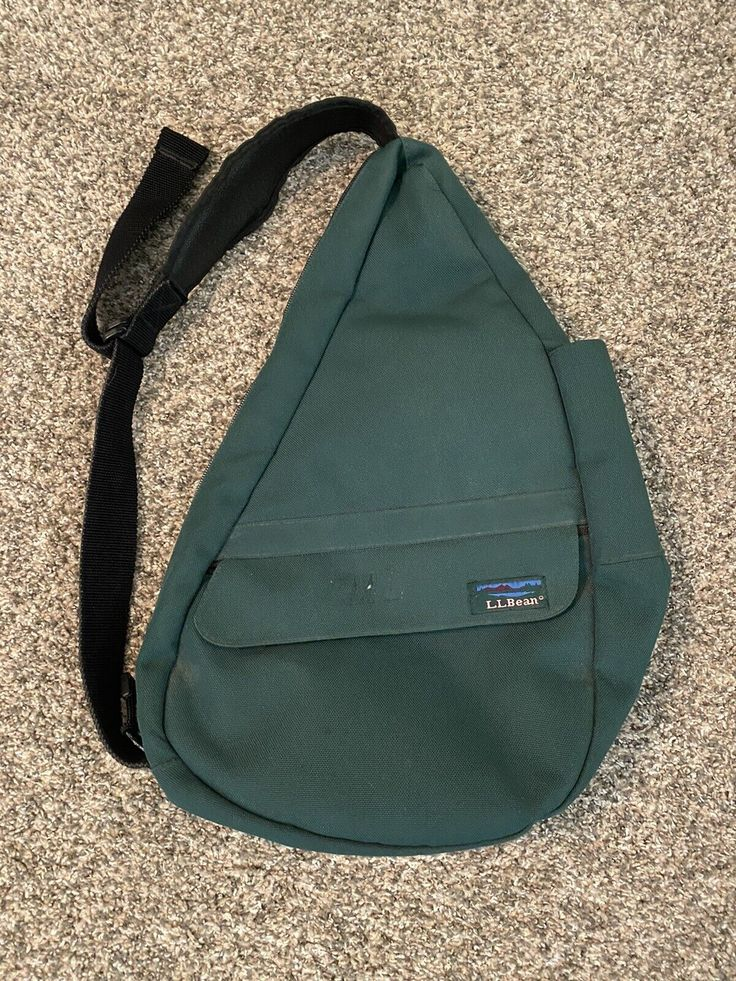nylon: (77, 97, 671, 858)
